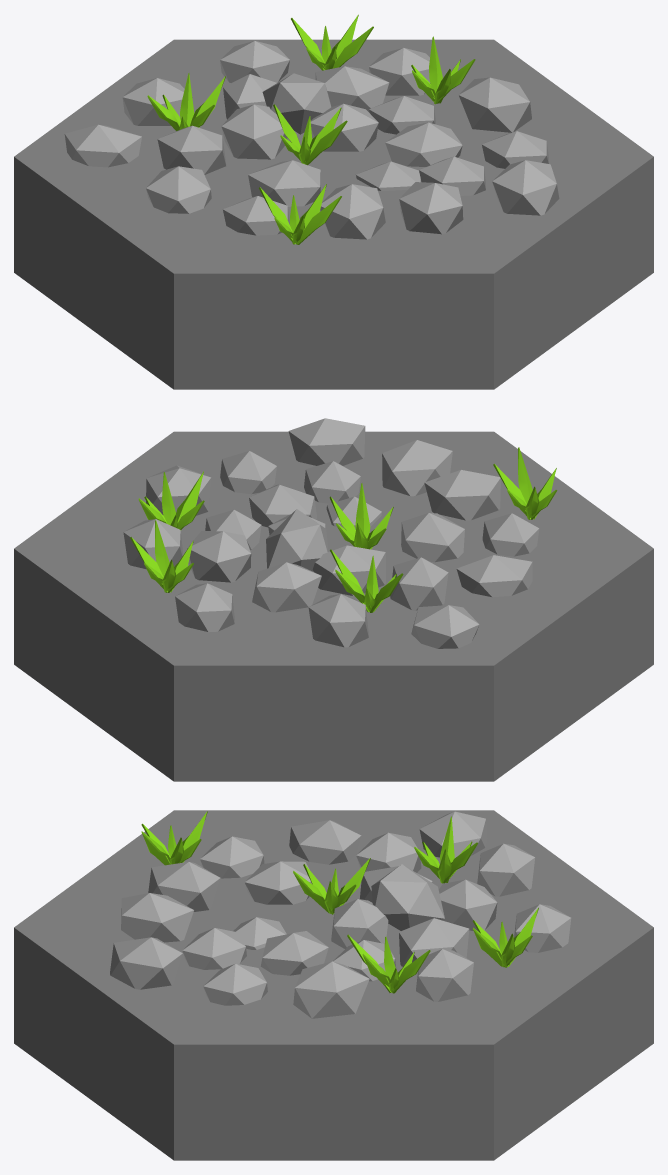
Rendered from Rocoso_Hex.fbx.
The picture shows the model from 3 angles, top to bottom: view 1: azimuth 30°, elevation 25°; view 2: azimuth 150°, elevation 25°; view 3: azimuth 270°, elevation 25°; orthographic projection.
Parts seen in each view (by area): view 1: Rocoso; view 2: Rocoso; view 3: Rocoso.
Boxes of the visible parts, x1,y1,x2,y2 form: Rocoso: (14, 14, 653, 389); Rocoso: (14, 418, 653, 781); Rocoso: (14, 810, 653, 1160).
Bounding box in the file's own units: 86.6 × 29.28 × 100.
1 material, 1 textured.
